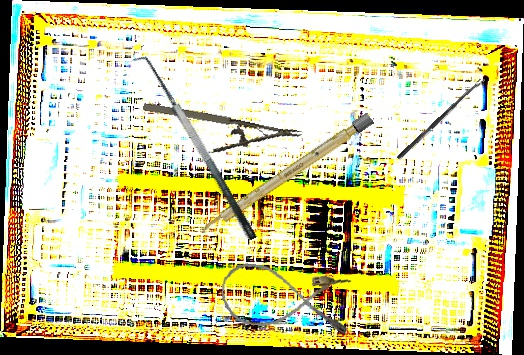Cannula: (216, 260, 355, 338)
Needle Holder: (137, 98, 303, 169)
Scalpel Handle: (198, 112, 375, 237)
Spatula Surgical: (129, 48, 258, 250)
Surgical Spoon: (396, 78, 484, 161)
